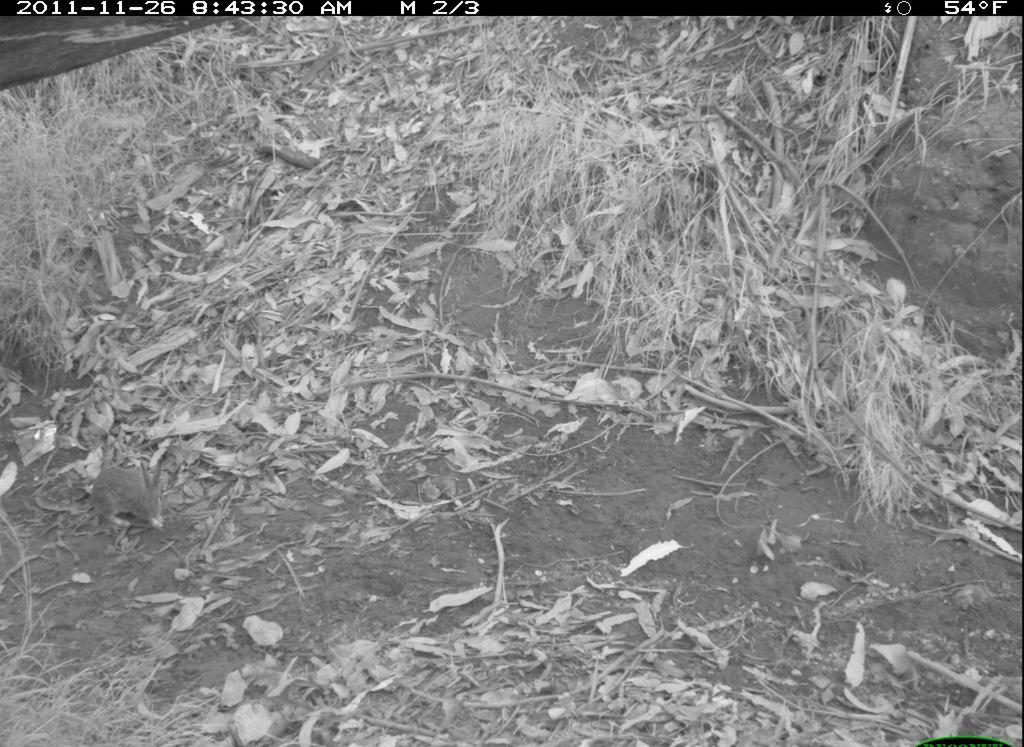rabbit: (89, 452, 181, 539)
